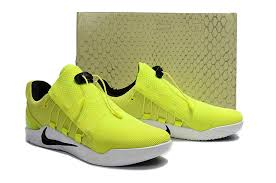nike: (39, 128, 80, 150)
